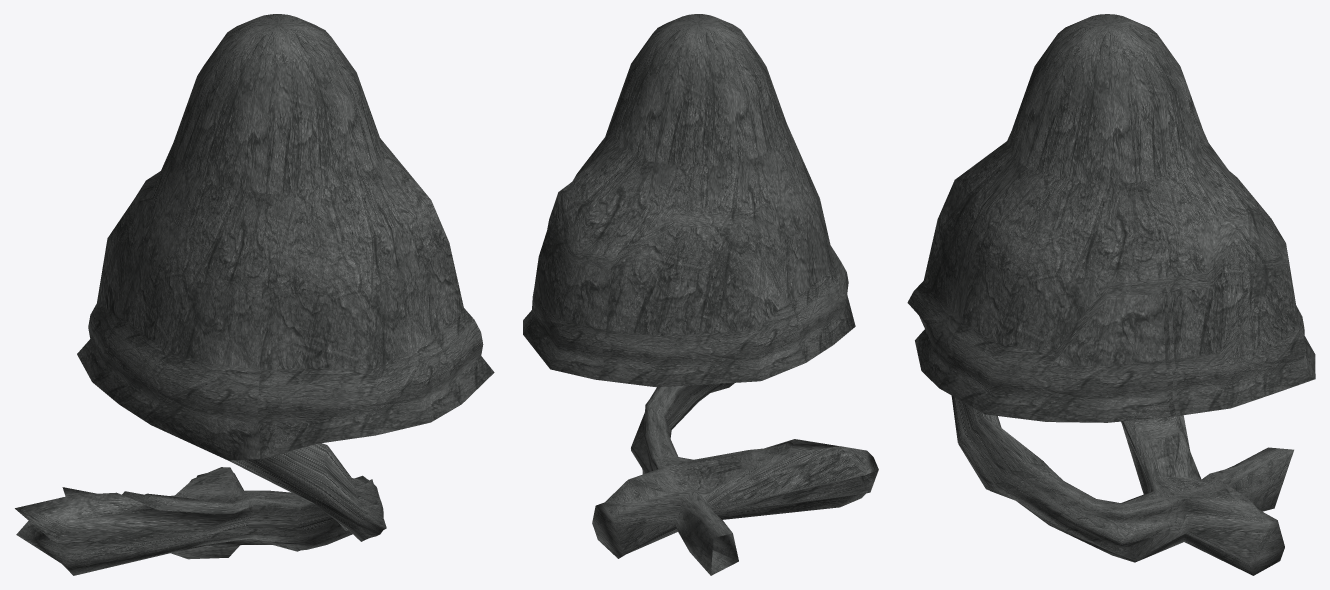
The model's file is caveinterior.obj.
3 renders of one model, left to right at view 1: azimuth 30°, elevation 25°; view 2: azimuth 150°, elevation 25°; view 3: azimuth 270°, elevation 25°, orthographic. The views are drawn at different scales.
Visible parts, largest first — view 1: Dune:pSphere2 Dune:polySurface1; view 2: Dune:pSphere2 Dune:polySurface1; view 3: Dune:pSphere2 Dune:polySurface1.
Part boxes in pixels (left/top/right/bottom): Dune:pSphere2 Dune:polySurface1: left=15, top=14, right=494, bottom=575; Dune:pSphere2 Dune:polySurface1: left=523, top=14, right=878, bottom=575; Dune:pSphere2 Dune:polySurface1: left=907, top=14, right=1315, bottom=575.
Bounding box in the file's own units: 69.44 × 94.48 × 65.27.
Materials: 1 (1 with a texture image).
